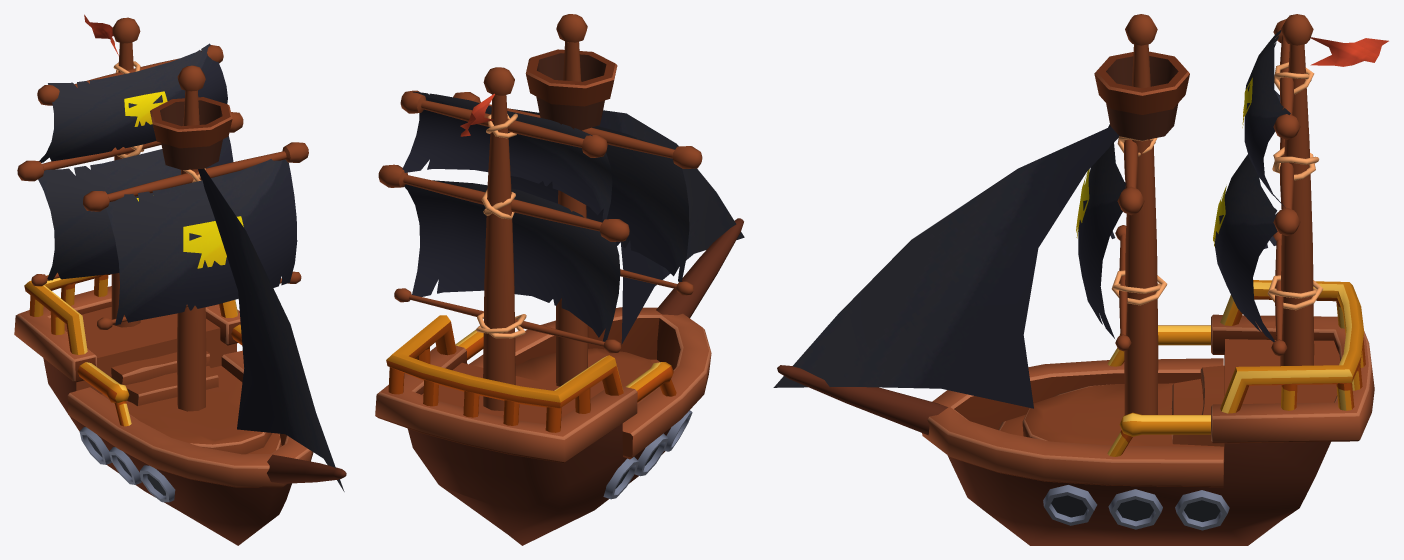
File: BigShip.fbx
3 views of the same model, side by side, from view 1: azimuth 30°, elevation 25°; view 2: azimuth 150°, elevation 25°; view 3: azimuth 270°, elevation 25° (orthographic). The views are drawn at different scales.
Visible parts, largest first — view 1: Color_01, Color_Cloth_01; view 2: Color_01, Color_Cloth_01; view 3: Color_01, Color_Cloth_01.
Part boxes in pixels (x1,y1,x2,y2): Color_01: (14,17,346,545); Color_Cloth_01: (38,14,344,491); Color_01: (375,14,743,545); Color_Cloth_01: (402,91,744,344); Color_01: (777,14,1374,545); Color_Cloth_01: (773,30,1388,408).
Bounding box in the file's own units: 18.21 × 34.41 × 36.15.
